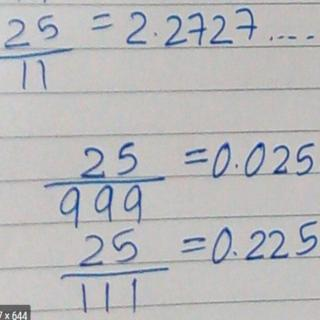.: (233, 161, 239, 171), (232, 249, 239, 257)
0: (242, 140, 267, 177), (211, 226, 233, 264), (211, 141, 232, 179)
1: (35, 56, 50, 89), (19, 58, 30, 90), (79, 281, 89, 314), (103, 281, 112, 313), (131, 276, 138, 314)
2: (80, 144, 108, 179), (79, 234, 106, 269), (124, 10, 149, 46), (4, 16, 31, 49), (163, 11, 187, 46), (266, 228, 290, 260), (245, 230, 267, 261), (271, 142, 291, 174)
5: (111, 229, 141, 264), (296, 221, 320, 257), (116, 140, 138, 176), (296, 139, 316, 176), (36, 12, 62, 40)
7: (232, 7, 259, 41), (186, 10, 208, 48), (210, 13, 233, 46)
9: (58, 186, 85, 228), (123, 184, 147, 225), (92, 185, 116, 223)
